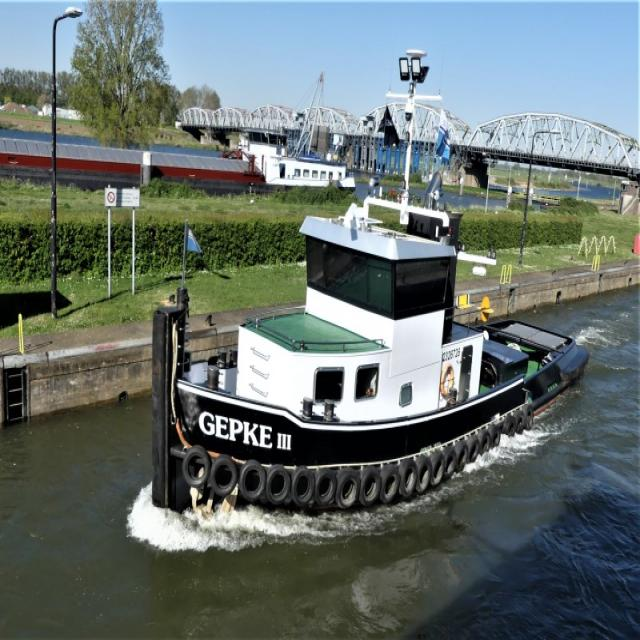tugboat: (149, 192, 591, 530)
